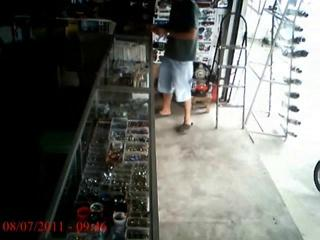Normal: (148, 0, 200, 133)
